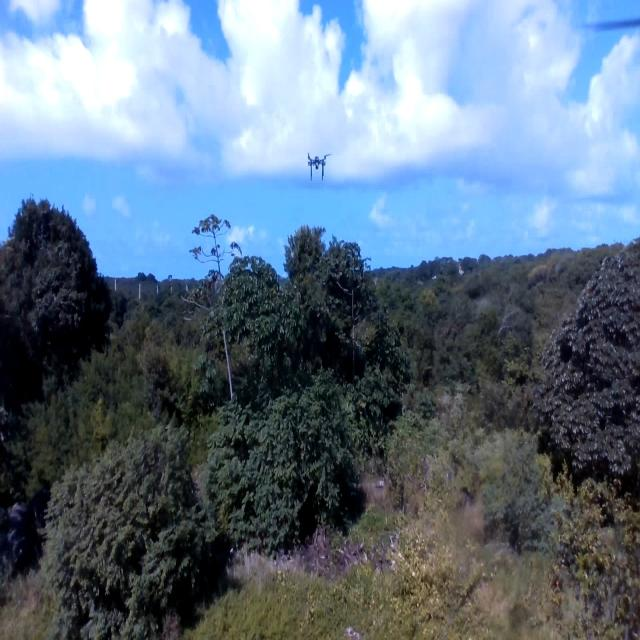-uav-: (298, 145, 334, 187)
